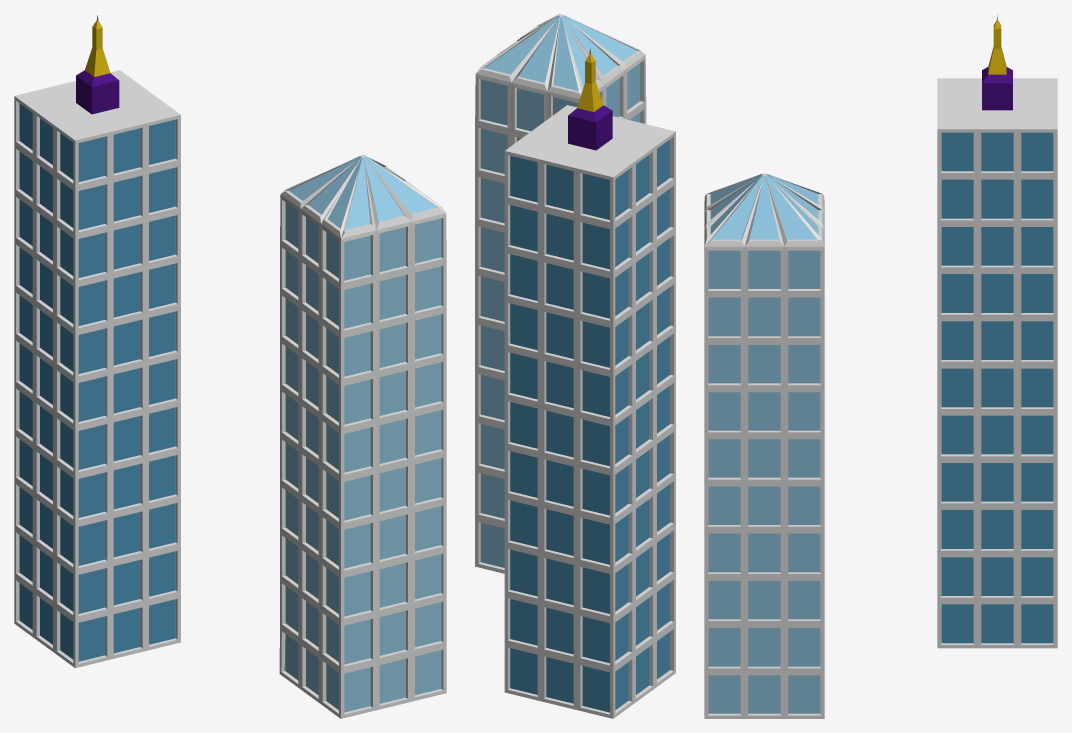
Rendered from Torens.fbx.
3 views of the same model, side by side, from view 1: azimuth 30°, elevation 25°; view 2: azimuth 150°, elevation 25°; view 3: azimuth 270°, elevation 25° (orthographic). The views are drawn at different scales.
Parts seen in each view (by area): view 1: Cube.001, Cube; view 2: Cube.001, Cube; view 3: Cube.001, Cube.
Part boxes in pixels (bbox=[...]): Cube.001: bbox=[14, 15, 180, 668]; Cube: bbox=[279, 155, 446, 718]; Cube.001: bbox=[504, 48, 675, 718]; Cube: bbox=[475, 14, 646, 573]; Cube.001: bbox=[937, 14, 1057, 648]; Cube: bbox=[704, 173, 824, 718].
Bounding box in the file's own units: 479 × 1119 × 588.
